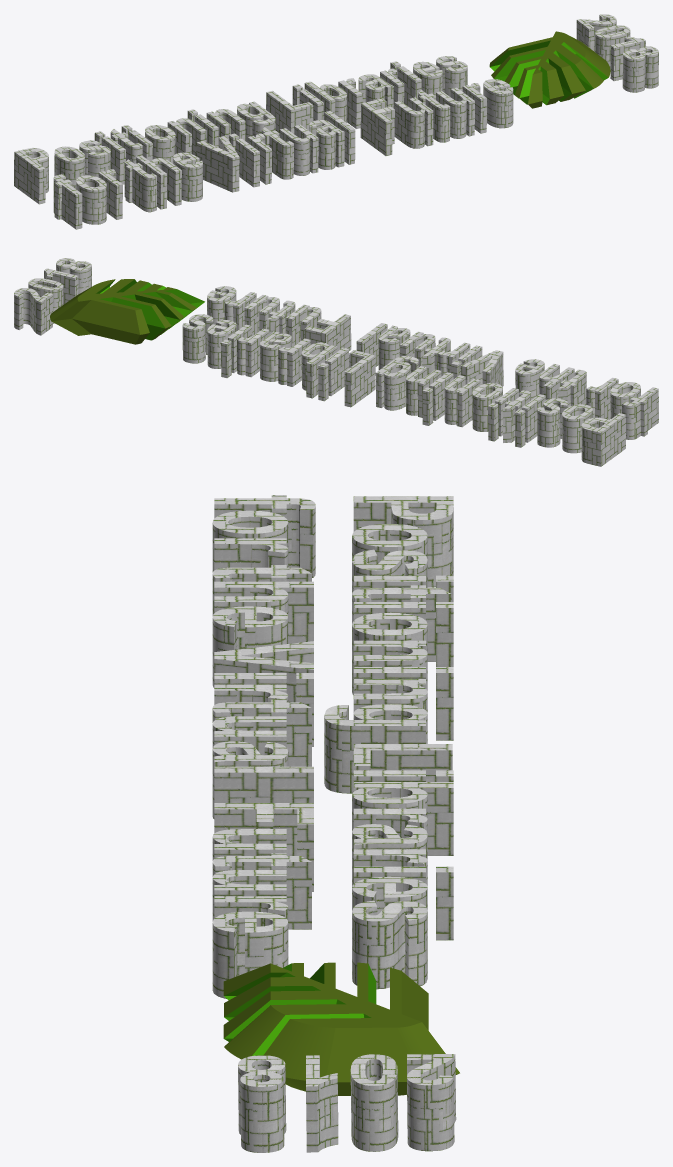
Rendered from leaf_plp.gltf.
3 views of the same model, one above another, from view 1: azimuth 30°, elevation 25°; view 2: azimuth 150°, elevation 25°; view 3: azimuth 270°, elevation 25° (orthographic). The views are drawn at different scales.
Visible parts, largest first — view 1: Positioning Libr, object 1, 2018#1; view 2: Positioning Libr, object 1, 2018#1; view 3: Positioning Libr, object 1, 2018#1.
Boxes of the visible parts, left/top/right/bottom form: Positioning Libr: left=14, top=56, right=513, bottom=229; object 1: left=489, top=31, right=610, bottom=108; 2018#1: left=576, top=14, right=658, bottom=92; Positioning Libr: left=182, top=286, right=658, bottom=466; object 1: left=50, top=279, right=204, bottom=344; 2018#1: left=14, top=258, right=91, bottom=335; Positioning Libr: left=212, top=495, right=453, bottom=998; object 1: left=223, top=962, right=459, bottom=1095; 2018#1: left=238, top=1054, right=456, bottom=1152.
Size of the model in its own units: 0.7488 by 0.0485 by 0.1356.
4 materials, 1 textured.
